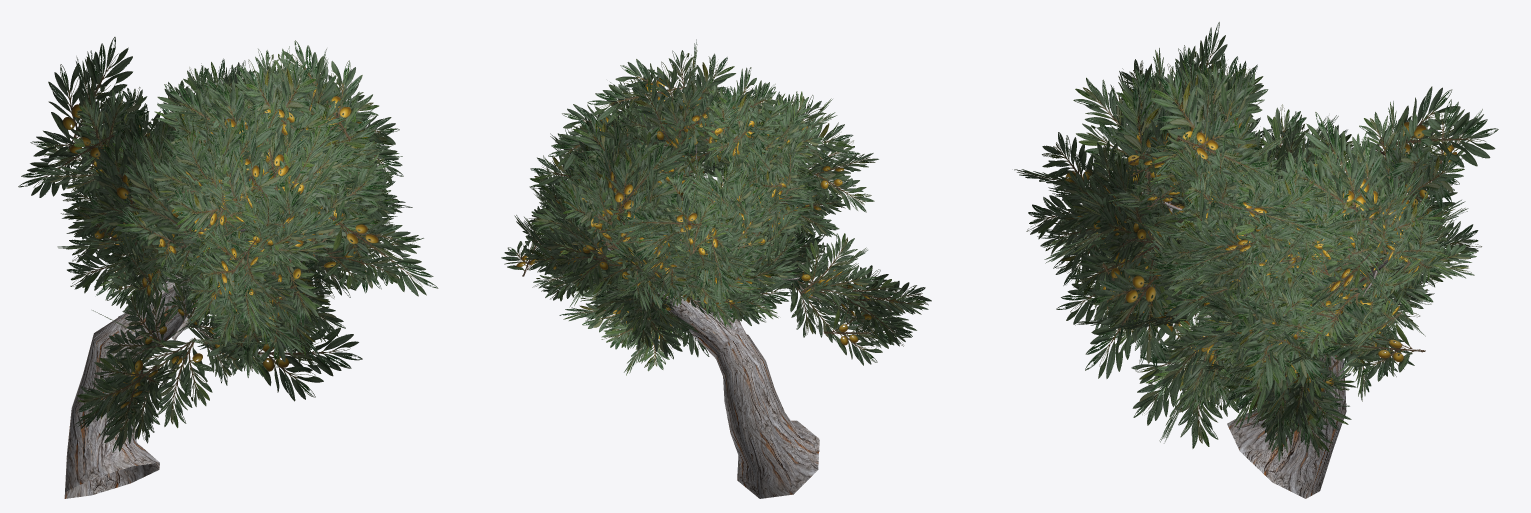
File: nature-white-olive-sunleaf_v2.glb
3 views of the same model, side by side, from view 1: azimuth 30°, elevation 25°; view 2: azimuth 150°, elevation 25°; view 3: azimuth 270°, elevation 25° (orthographic). The views are drawn at different scales.
Parts seen in each view (by area): view 1: nature-white-olive-sunleaf; view 2: nature-white-olive-sunleaf; view 3: nature-white-olive-sunleaf.
Part boxes in pixels (x1,y1,x2,y2): nature-white-olive-sunleaf: [18, 37, 438, 498]; nature-white-olive-sunleaf: [501, 39, 931, 498]; nature-white-olive-sunleaf: [1014, 22, 1498, 498].
Bounding box in the file's own units: 5.06 × 5.24 × 4.93.
2 materials, 2 textured.
